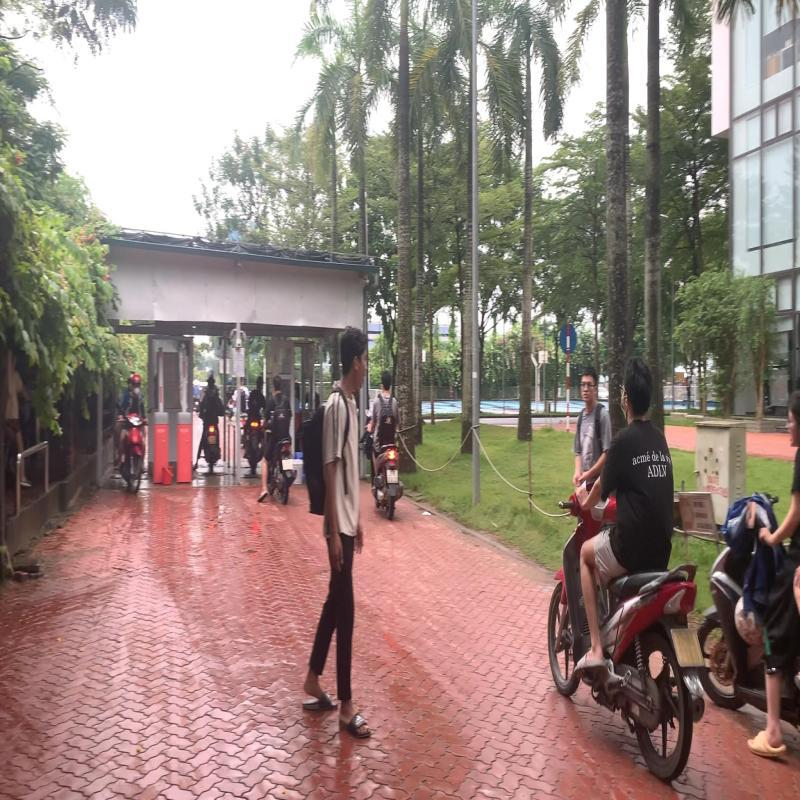nohelmet: (617, 352, 655, 417)
